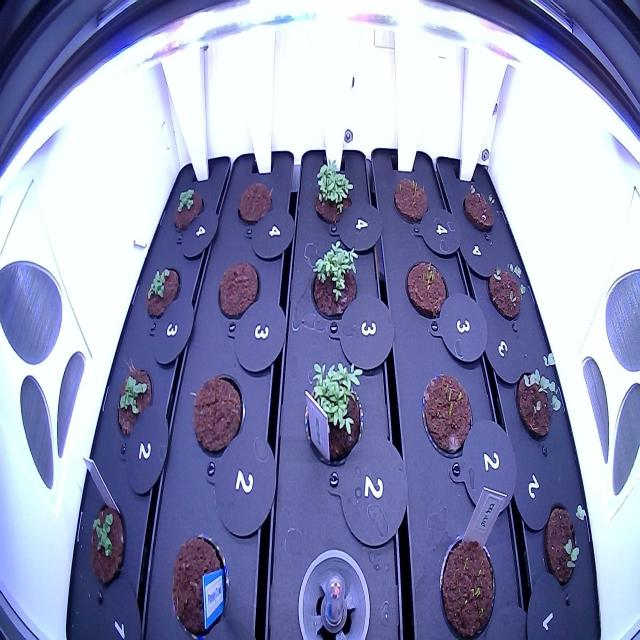germination: (298, 353, 368, 482), (431, 522, 499, 637), (416, 362, 478, 469), (536, 492, 591, 606), (304, 235, 364, 331), (512, 347, 568, 449), (83, 492, 131, 595), (306, 154, 359, 234), (400, 253, 454, 330), (110, 358, 157, 446), (481, 255, 531, 333), (388, 170, 436, 232), (142, 262, 184, 332), (459, 177, 502, 245), (169, 180, 208, 239)
pod: (162, 524, 236, 639), (189, 366, 249, 464), (212, 253, 264, 328), (232, 174, 278, 234)
